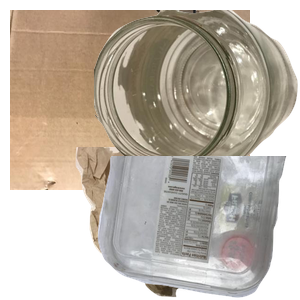cardboard: (10, 10, 250, 190)
glass: (94, 10, 300, 184)
plastic: (95, 156, 300, 300)
trash: (73, 147, 300, 300)
